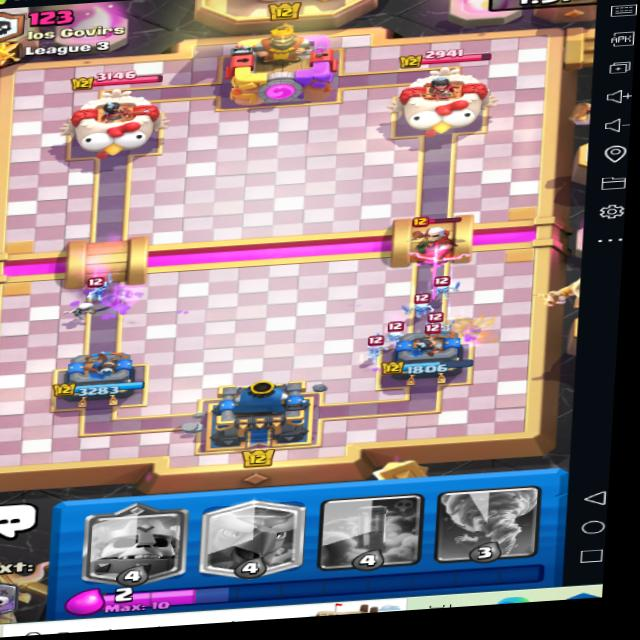Marcher: (405, 213, 474, 268)
